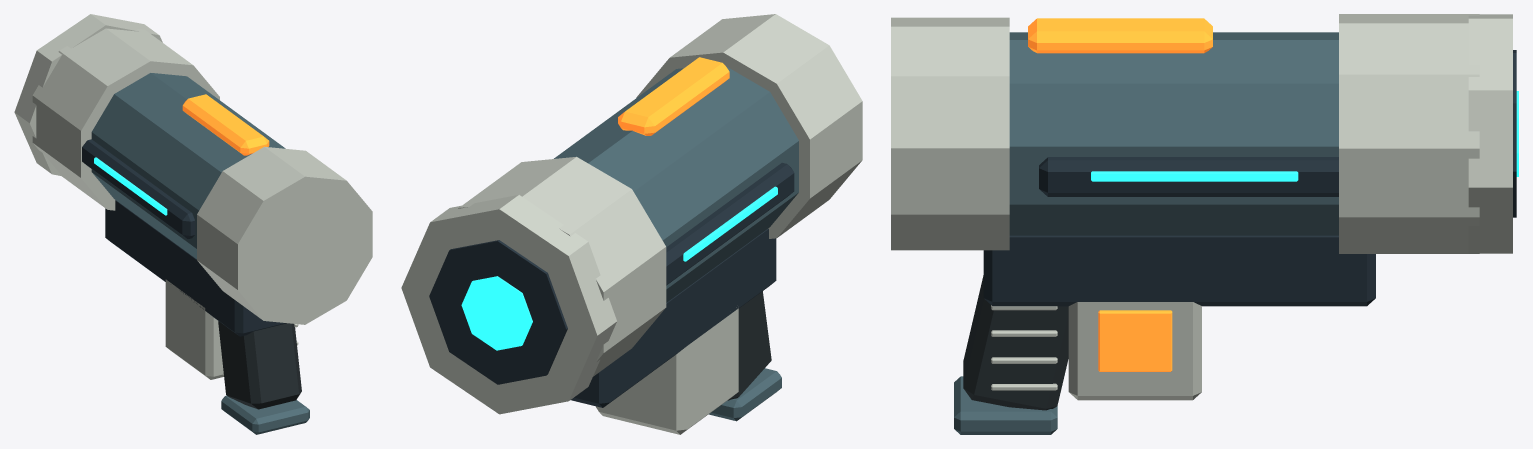
Rendered from 06_cairn_rocket.glb.
3 renders of one model, left to right at view 1: azimuth 30°, elevation 25°; view 2: azimuth 150°, elevation 25°; view 3: azimuth 270°, elevation 25°, orthographic. The views are drawn at different scales.
Visible parts, largest first — view 1: aft shroud, accelerator tube, forward shroud, underslung frame, grip.004, power pack, muzzle collar.004, tube rail, top warning ridge, grip heel.004, luminous flank.004; view 2: accelerator tube, muzzle collar.004, aft shroud, forward shroud, muzzle aperture.004, underslung frame, power pack, tube rail, top warning ridge, muzzle ion core.004, grip.004, grip heel.004 (+1 smaller); view 3: accelerator tube, forward shroud, aft shroud, underslung frame, muzzle collar.004, tube rail.001, power pack, grip.004, top warning ridge, pack warning, grip heel.004, luminous flank.005 (+1 smaller).
Part boxes in pixels (<box>): aft shroud: <box>197,146,372,324</box>; accelerator tube: <box>91,73,285,259</box>; forward shroud: <box>32,28,219,210</box>; underslung frame: <box>105,200,286,336</box>; grip.004: <box>218,321,301,409</box>; power pack: <box>165,279,223,379</box>; muzzle collar.004: <box>14,14,162,176</box>; tube rail: <box>82,139,195,238</box>; top warning ridge: <box>182,94,269,155</box>; grip heel.004: <box>221,395,309,434</box>; luminous flank.004: <box>94,157,167,215</box>; accelerator tube: <box>554,66,798,302</box>; muzzle collar.004: <box>401,195,616,414</box>; aft shroud: <box>636,14,862,238</box>; forward shroud: <box>458,156,666,376</box>; muzzle aperture.004: <box>429,240,567,384</box>; underslung frame: <box>571,228,776,407</box>; power pack: <box>596,307,738,434</box>; tube rail: <box>666,162,794,285</box>; top warning ridge: <box>618,57,729,135</box>; muzzle ion core.004: <box>461,276,532,350</box>; grip.004: <box>728,291,771,400</box>; grip heel.004: <box>708,368,781,421</box>; accelerator tube: <box>1009,32,1338,235</box>; forward shroud: <box>1339,14,1479,253</box>; aft shroud: <box>891,17,1009,250</box>; underslung frame: <box>983,235,1375,306</box>; muzzle collar.004: <box>1468,14,1512,253</box>; tube rail.001: <box>1039,157,1338,196</box>; power pack: <box>1068,302,1201,400</box>; grip.004: <box>963,275,1068,410</box>; top warning ridge: <box>1028,18,1212,53</box>; pack warning: <box>1098,310,1172,371</box>; grip heel.004: <box>954,376,1057,434</box>; luminous flank.005: <box>1091,171,1298,181</box>.
Bounding box in the file's own units: 0.344 × 0.5945 × 0.848.
